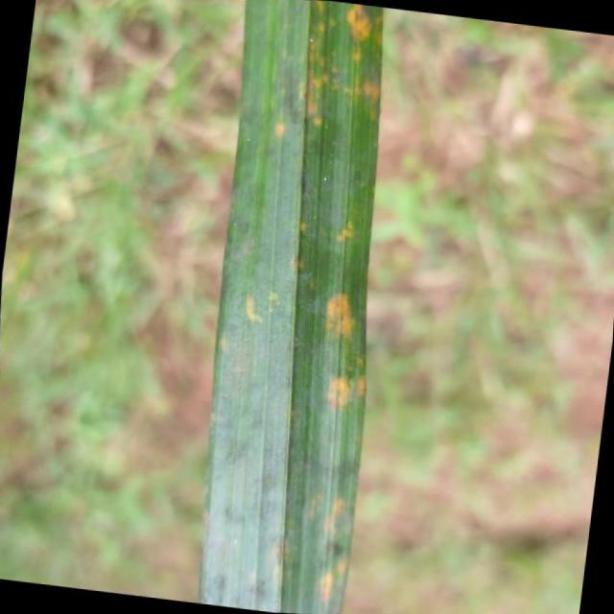Kalium: (203, 0, 385, 614)
